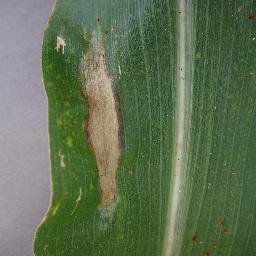Corn_Blight: (74, 18, 126, 225), (184, 212, 241, 256), (28, 190, 65, 222), (51, 26, 71, 62), (237, 4, 256, 39), (52, 139, 68, 175)
